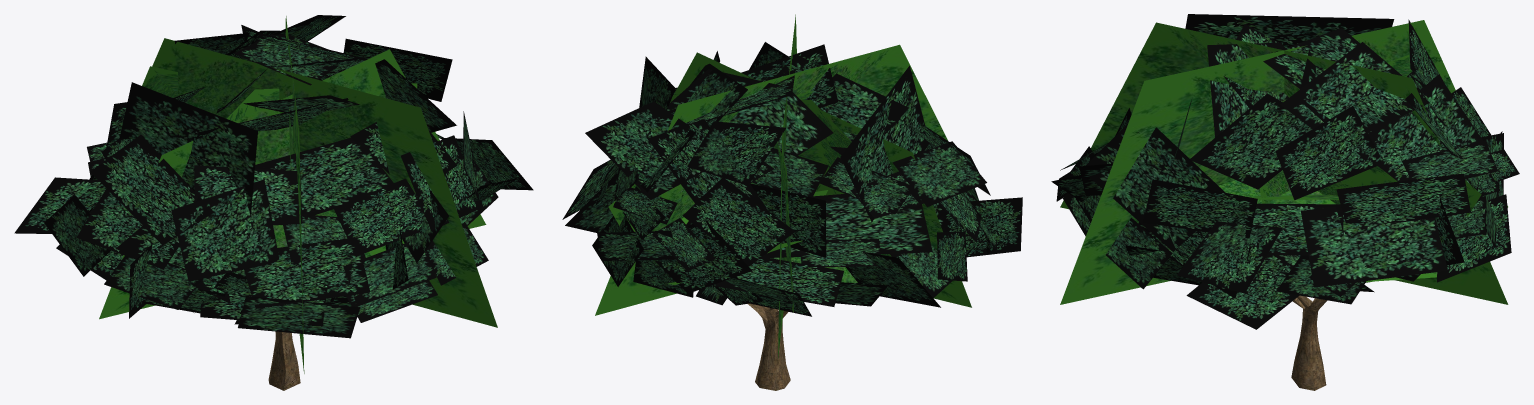
The model's file is gen_tree_h.fbx.
3 renders of one model, left to right at view 1: azimuth 30°, elevation 25°; view 2: azimuth 150°, elevation 25°; view 3: azimuth 270°, elevation 25°, orthographic. The views are drawn at different scales.
Parts seen in each view (by area): view 1: leaves, pasted__pPlane6, pasted__pPlane1, trunk, pasted__pPlane4, center_y7, center_y4; view 2: leaves, pasted__pPlane4, pasted__pPlane1, trunk, center_y10, pasted__pPlane6, center_y7; view 3: leaves, pasted__pPlane6, pasted__pPlane4, trunk, center_y14, center_y5, center_y7.
Boxes of the visible parts, box(x1,y1,x2,y2) form: leaves: box(14, 15, 533, 338); pasted__pPlane6: box(152, 38, 497, 327); pasted__pPlane1: box(99, 49, 486, 319); trunk: box(268, 331, 300, 390); pasted__pPlane4: box(285, 16, 304, 373); center_y7: box(142, 66, 177, 97); center_y4: box(227, 91, 266, 121); leaves: box(562, 42, 1022, 316); pasted__pPlane4: box(595, 44, 947, 315); pasted__pPlane1: box(674, 52, 971, 307); trunk: box(747, 261, 793, 390); center_y10: box(670, 95, 891, 256); pasted__pPlane6: box(778, 14, 796, 358); center_y7: box(774, 142, 793, 312); leaves: box(1051, 14, 1519, 329); pasted__pPlane6: box(1060, 20, 1507, 304); pasted__pPlane4: box(1060, 22, 1508, 304); trunk: box(1291, 295, 1327, 390); center_y14: box(1318, 166, 1481, 282); center_y5: box(1218, 180, 1335, 204); center_y7: box(1259, 54, 1409, 203).
Bounding box in the file's own units: 11737 × 8952 × 11154.
2 materials, 2 textured.
